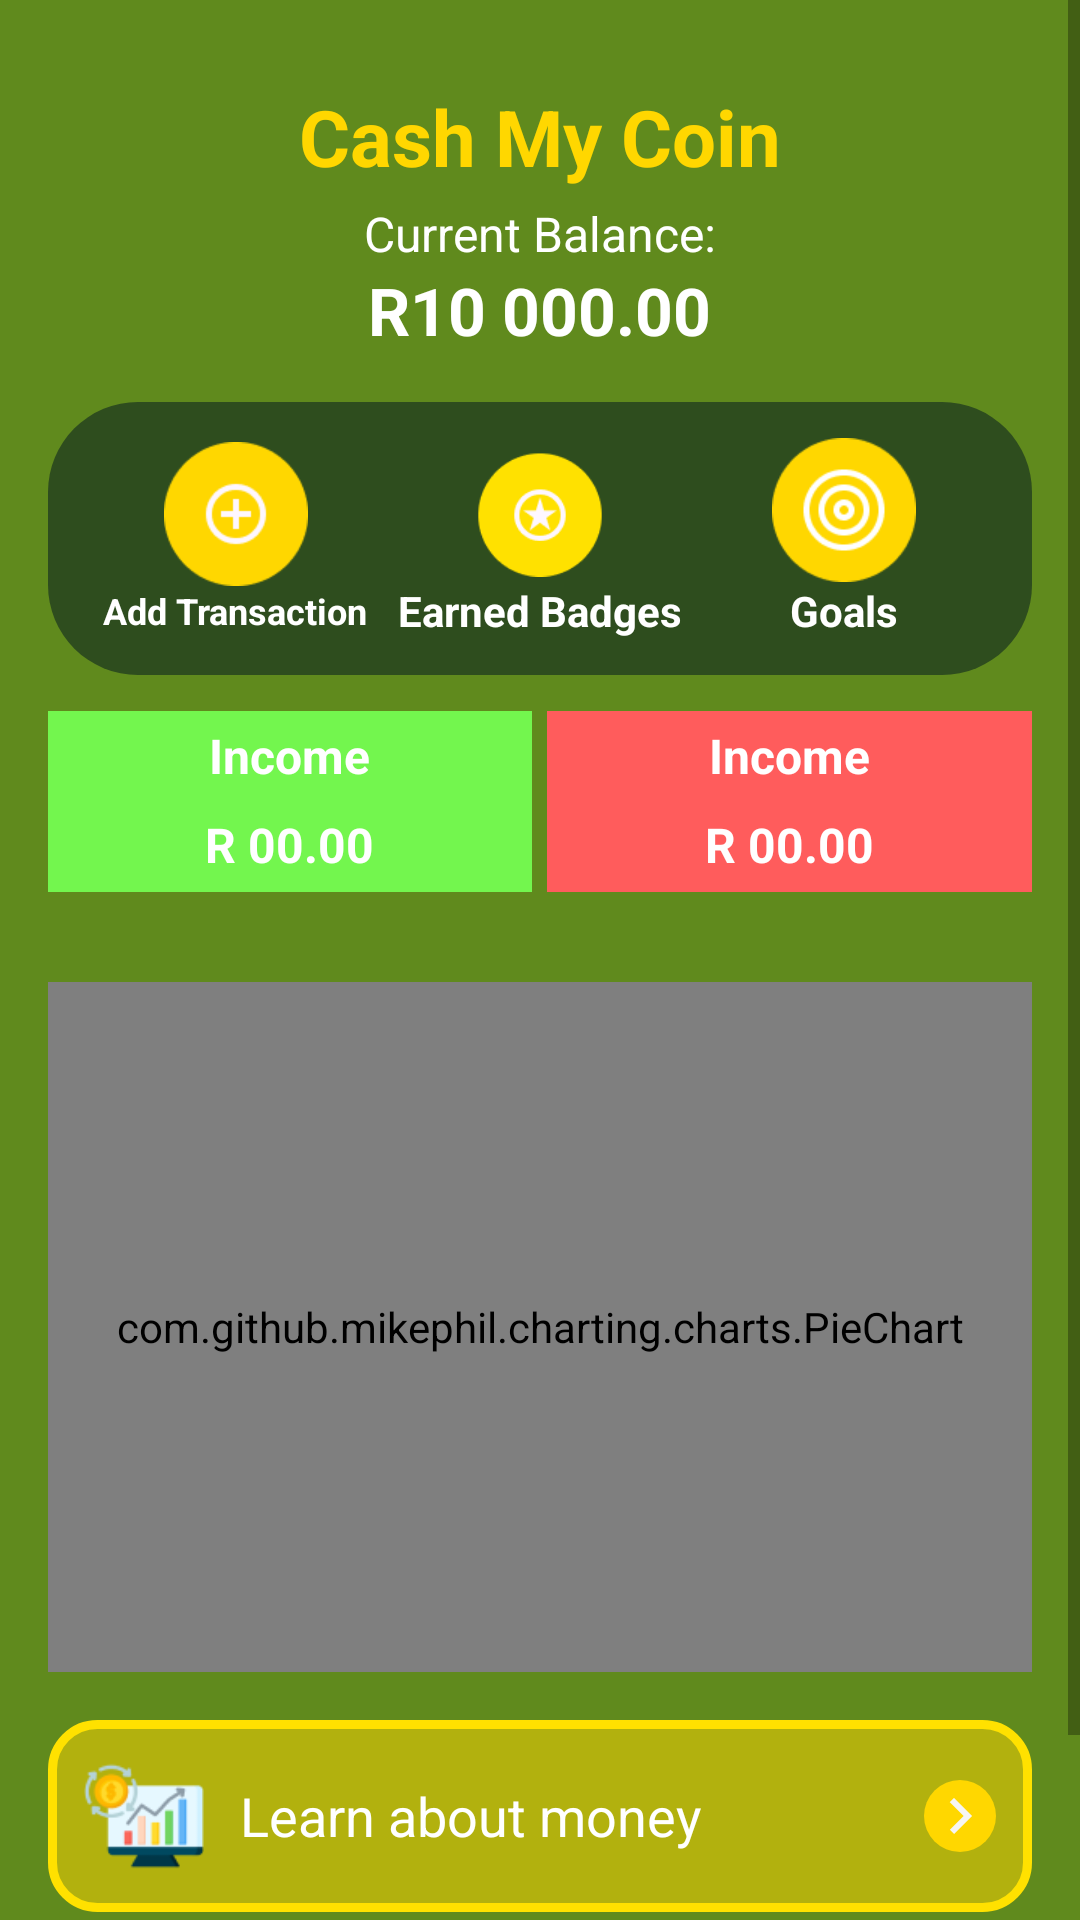

Icons on this 1080px x 1920px Android screen, each with the point to tap as [x,y]:
arrow right: [960,1816]
